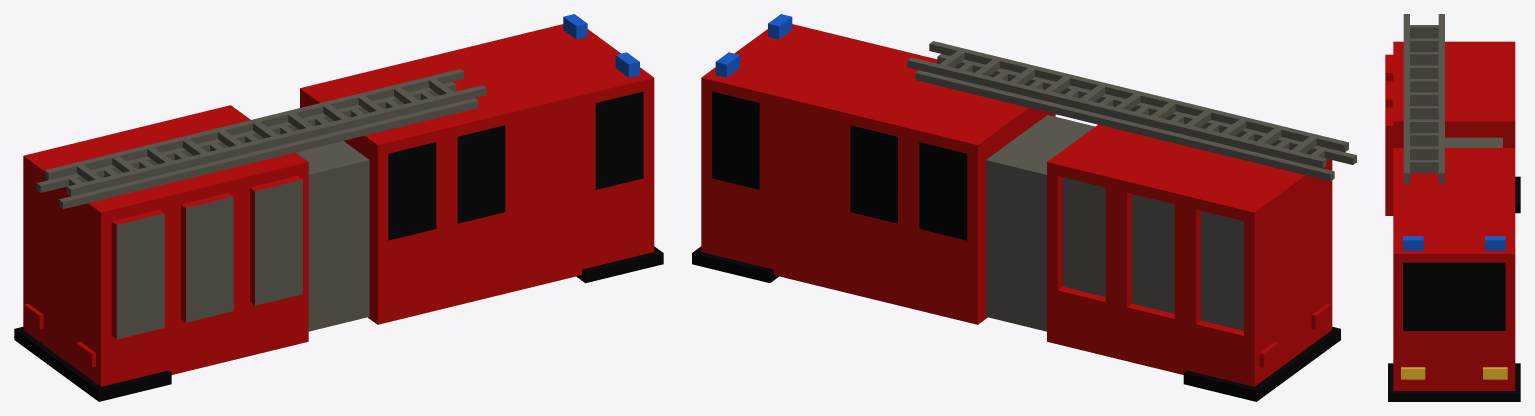
File: CityFireTruck.fbx
The picture shows the model from 3 angles, left to right: view 1: azimuth 30°, elevation 25°; view 2: azimuth 150°, elevation 25°; view 3: azimuth 270°, elevation 25°; orthographic projection. The views are drawn at different scales.
Parts seen in each view (by area): view 1: CityFireTruck; view 2: CityFireTruck; view 3: CityFireTruck.
Boxes of the visible parts, x1,y1,x2,y2 form: CityFireTruck: [14, 14, 663, 401]; CityFireTruck: [692, 14, 1356, 401]; CityFireTruck: [1385, 14, 1520, 401].
Size of the model in its own units: 1.1 by 0.3741 by 0.2792.
